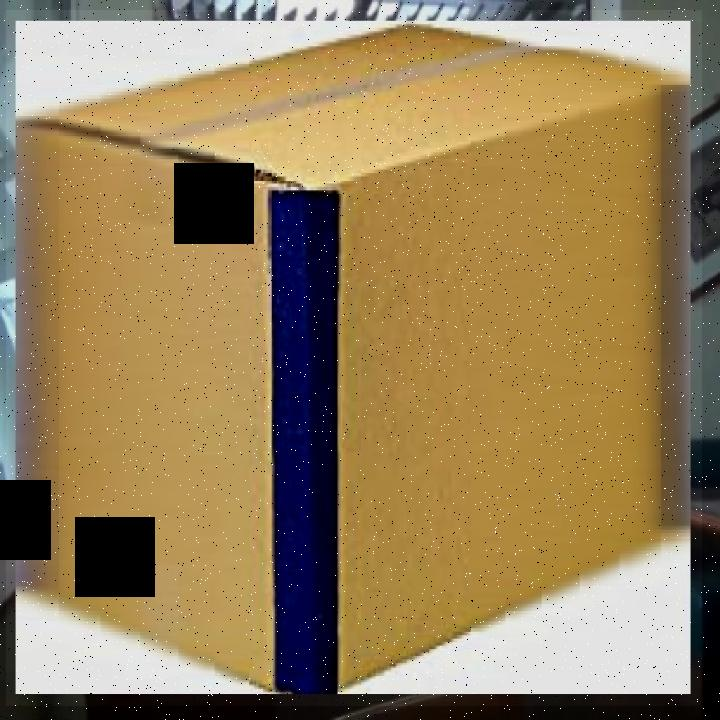box: (6, 11, 702, 706)
